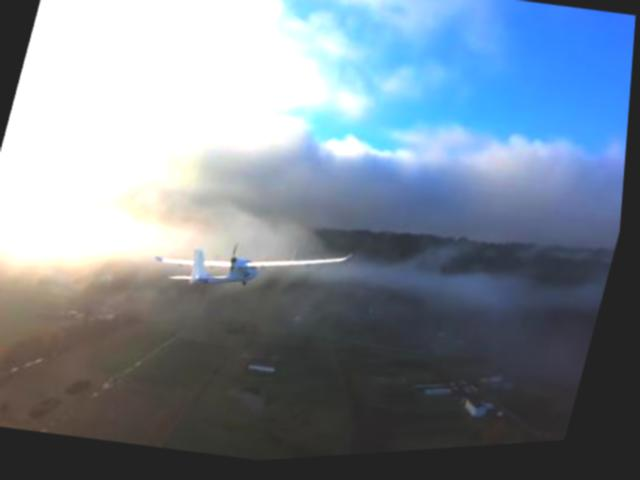uav: (139, 212, 367, 338)
